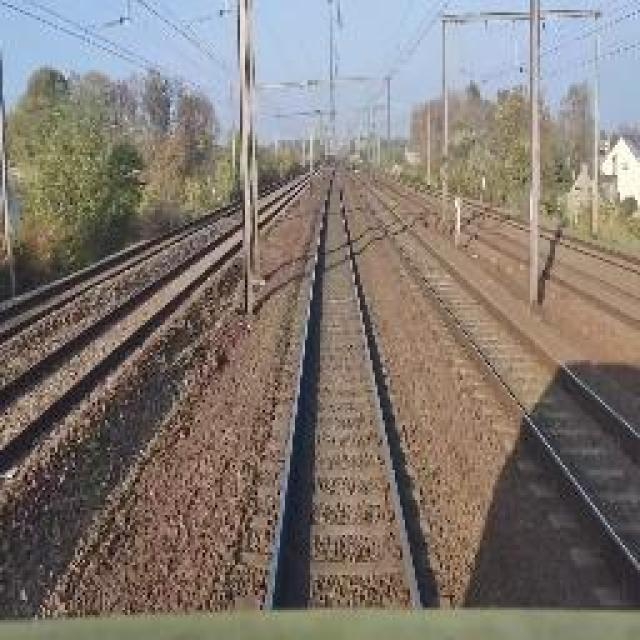rail: (345, 166, 640, 615), (252, 162, 462, 606)
